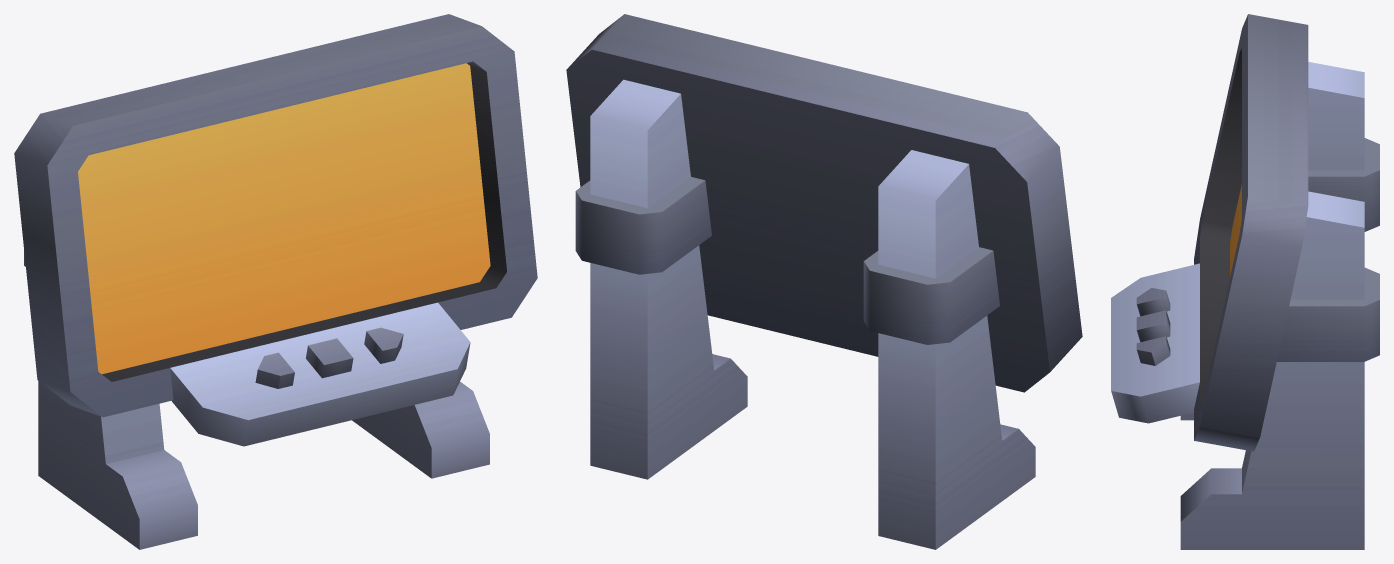
The model's file is station-computer-screen.glb.
3 renders of one model, left to right at view 1: azimuth 30°, elevation 25°; view 2: azimuth 150°, elevation 25°; view 3: azimuth 270°, elevation 25°, orthographic. The views are drawn at different scales.
Parts seen in each view (by area): view 1: computer-screen; view 2: computer-screen; view 3: computer-screen.
Boxes of the visible parts, x1,y1,x2,y2 form: computer-screen: (14, 14, 537, 549); computer-screen: (566, 14, 1082, 549); computer-screen: (1111, 14, 1379, 549).
Bounding box in the file's own units: 0.8 × 0.6609 × 0.4381.
1 material, 1 textured.
